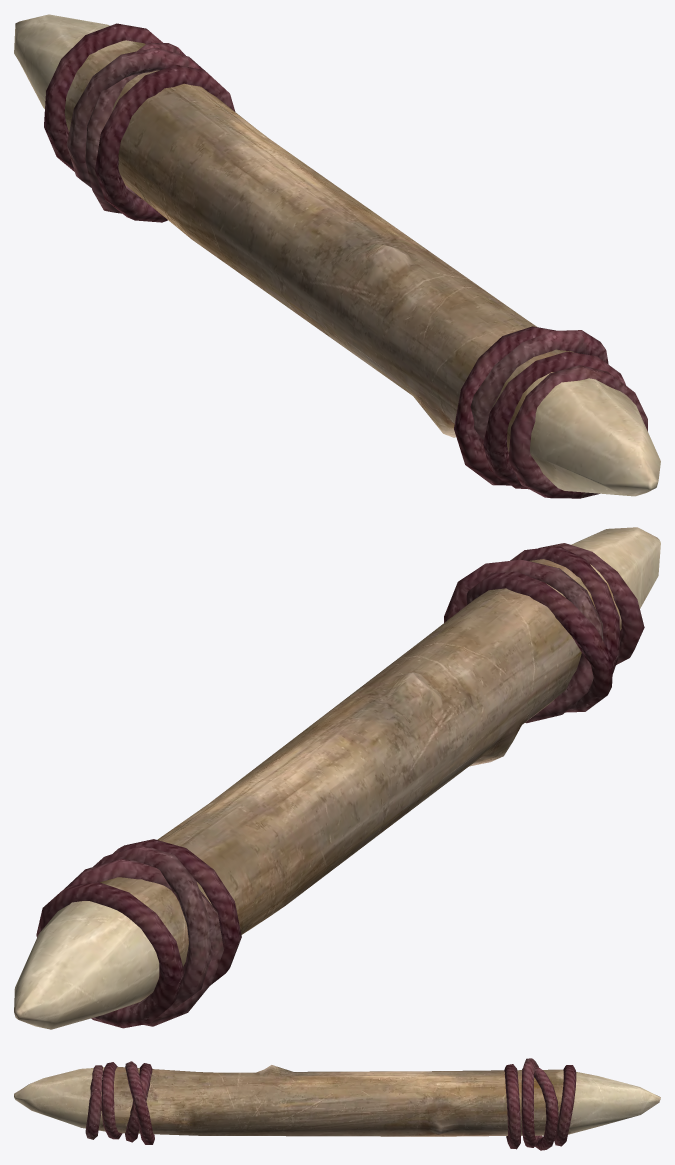
3 renders of one model, top to bottom at view 1: azimuth 30°, elevation 25°; view 2: azimuth 150°, elevation 25°; view 3: azimuth 270°, elevation 25°, orthographic. The views are drawn at different scales.
Parts seen in each view (by area): view 1: SM_Garou_Set_SM_LogRope_02_LOD0; view 2: SM_Garou_Set_SM_LogRope_02_LOD0; view 3: SM_Garou_Set_SM_LogRope_02_LOD0.
Part boxes in pixels (bbox=[...]): SM_Garou_Set_SM_LogRope_02_LOD0: bbox=[14, 14, 660, 498]; SM_Garou_Set_SM_LogRope_02_LOD0: bbox=[14, 527, 660, 1029]; SM_Garou_Set_SM_LogRope_02_LOD0: bbox=[14, 1058, 660, 1150].
Bounding box in the file's own units: 0.4748 × 0.4781 × 3.32.
Materials: 1 (1 with a texture image).
